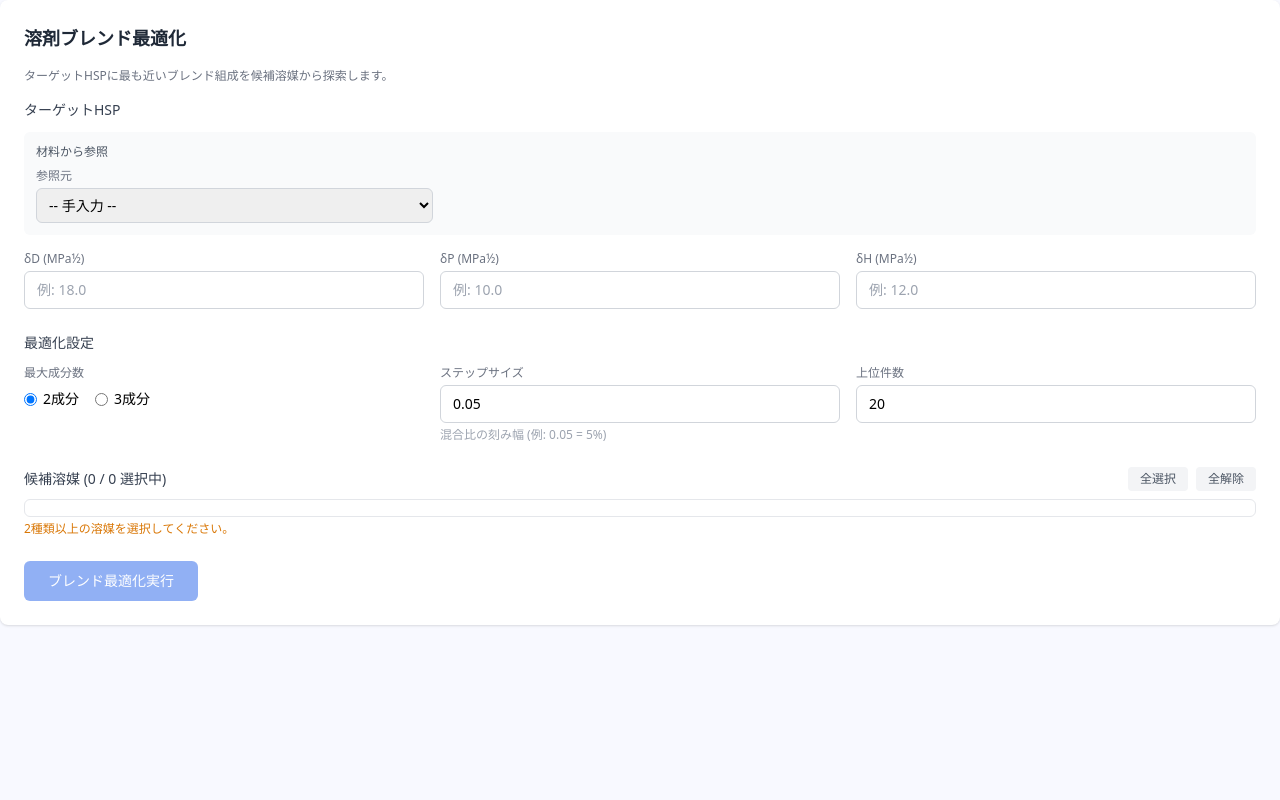
Test: BlendOptimizerView - 材料からターゲットHSP参照 › Drug選択でδD/δP/δHが自動入力される
Select "薬物" in the dropdown labelled "参照元" at [235, 206], box [36,188,433,223]
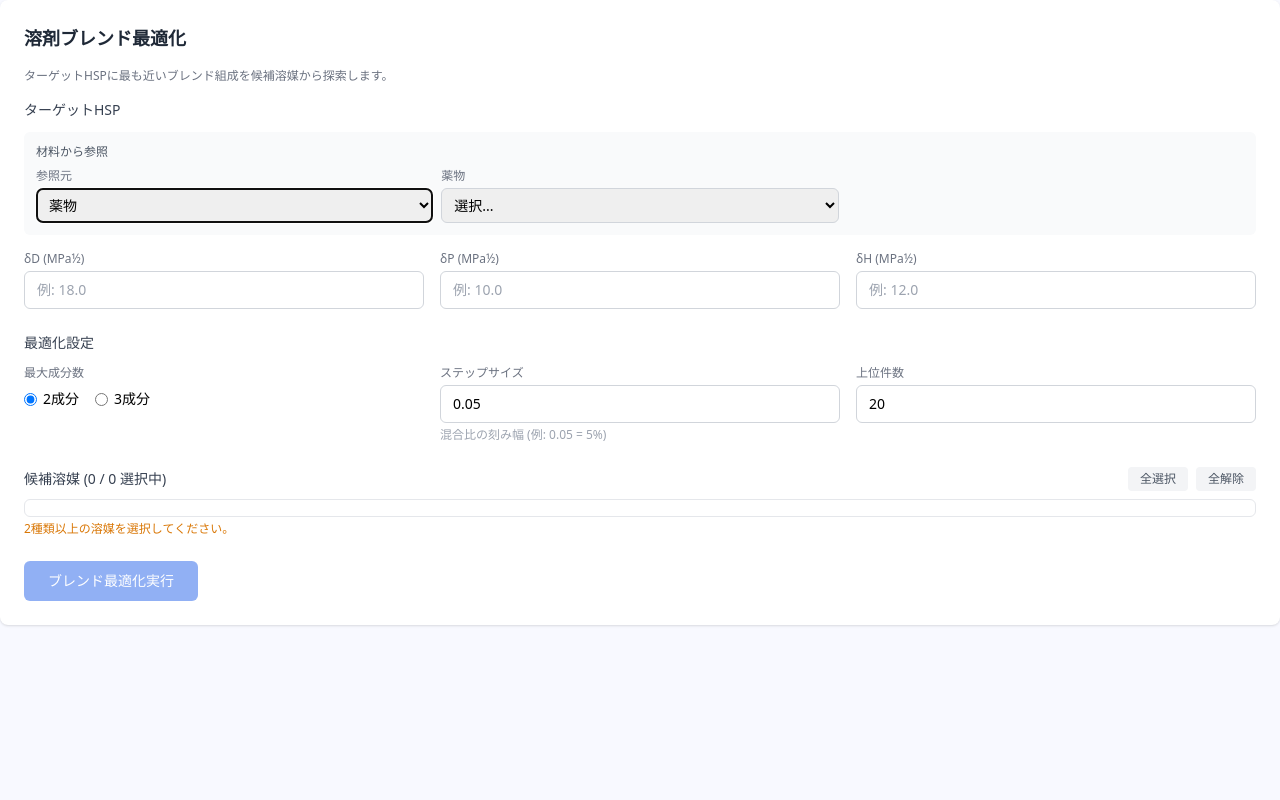
Now the dropdown labelled "薬物" is shown
Select "アセトアミノフェン" in the dropdown labelled "薬物" at [640, 206], box [441,188,839,223]
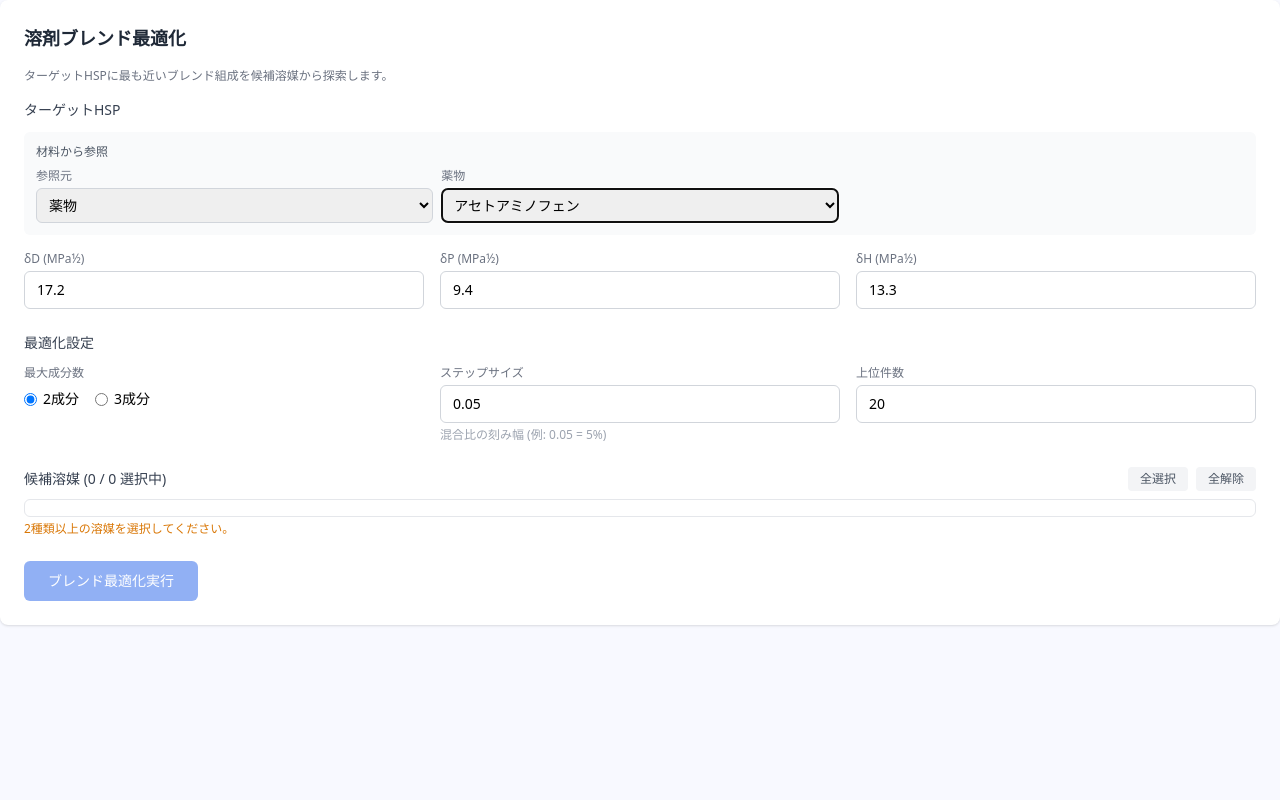
Now the number field below "δD (MPa½)" holds "17.2", box [24,271,424,309]
Now the number field below "δP (MPa½)" holds "9.4", box [440,271,840,309]
Now the number field below "δH (MPa½)" holds "13.3", box [856,271,1256,309]
